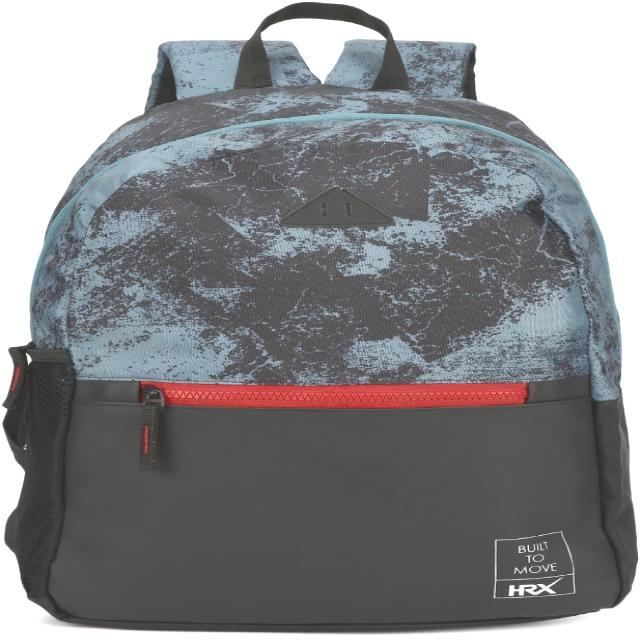backpack: (3, 3, 637, 633)
